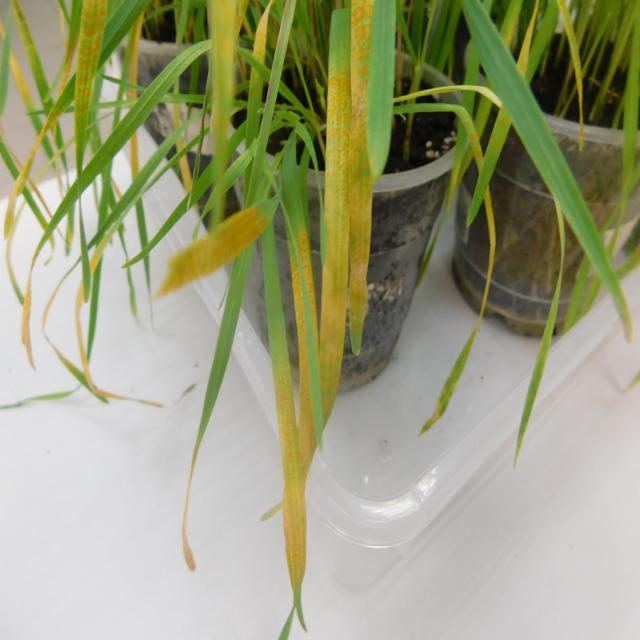wheat-yellowrust: (274, 0, 375, 628), (171, 200, 278, 295), (74, 0, 109, 176), (427, 324, 480, 430), (4, 147, 37, 223), (565, 7, 584, 108), (484, 216, 497, 307), (518, 22, 536, 66), (469, 125, 485, 164), (45, 108, 60, 130)
